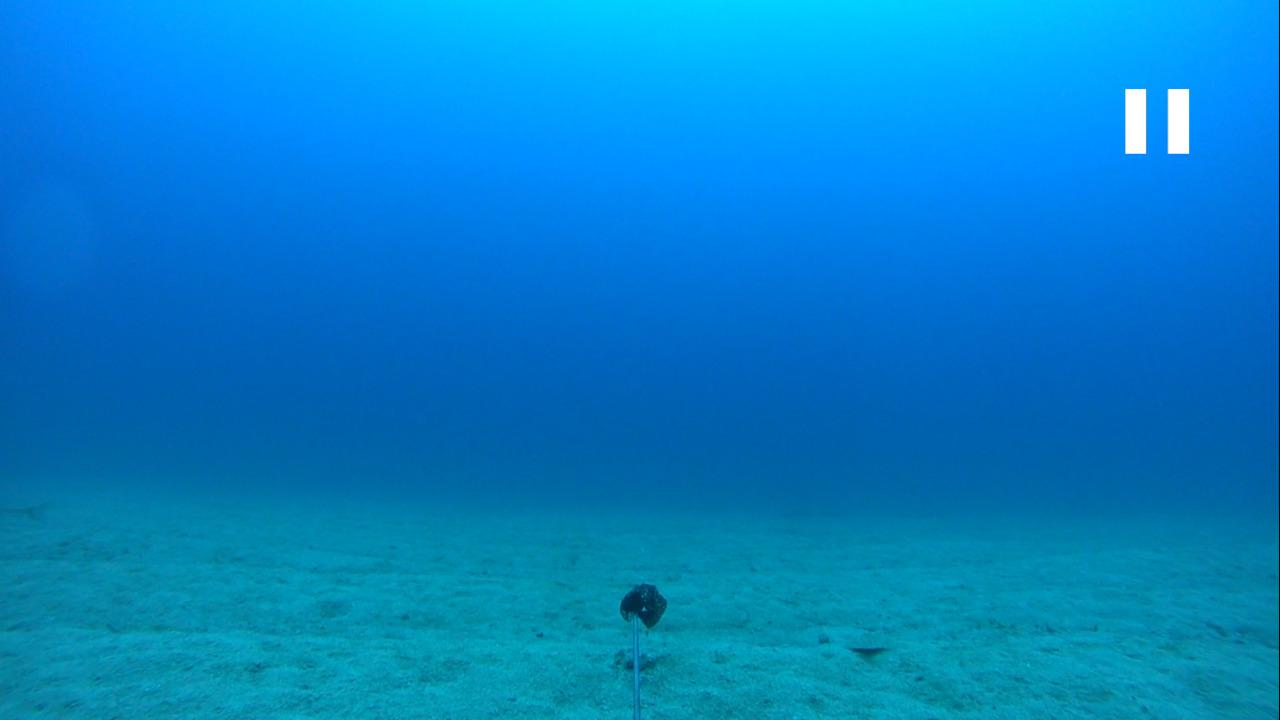bothus: (842, 622, 896, 654)
